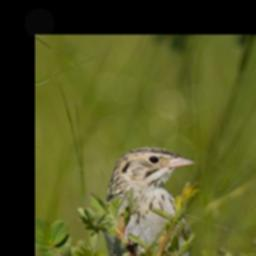Sparrow: (94, 146, 196, 256)
